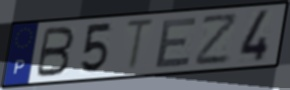4: (238, 8, 271, 65)
5: (78, 20, 116, 76)
B: (33, 26, 77, 79)
E: (152, 15, 200, 70)
T: (123, 18, 157, 74)
Z: (193, 11, 241, 67)
